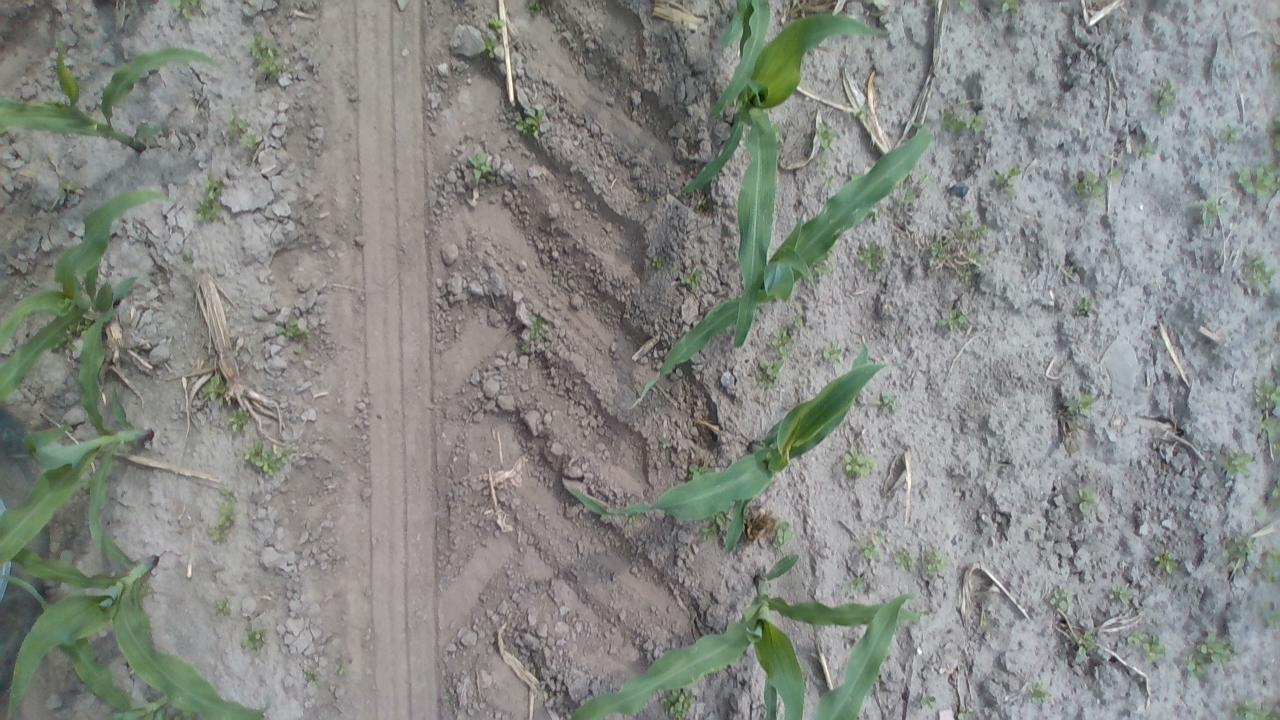Maize: (622, 105, 929, 417), (683, 2, 898, 350), (560, 346, 891, 540), (574, 548, 914, 720), (0, 535, 266, 714), (4, 304, 150, 592), (0, 192, 174, 422), (0, 34, 220, 155), (806, 600, 918, 716), (713, 0, 765, 70)
Weeds: (1187, 630, 1236, 680), (248, 32, 292, 86), (241, 440, 288, 476), (209, 490, 239, 544), (1238, 162, 1276, 202), (1242, 250, 1274, 294), (941, 105, 986, 136), (224, 110, 258, 150), (507, 104, 546, 137), (1128, 630, 1166, 662), (660, 684, 695, 718), (814, 121, 841, 165), (479, 14, 507, 56), (1152, 78, 1180, 119), (198, 177, 223, 222), (1220, 448, 1255, 479), (1224, 535, 1255, 570), (841, 448, 876, 479), (276, 318, 312, 346), (1228, 699, 1277, 719), (1195, 194, 1225, 226), (1076, 172, 1106, 202), (1252, 377, 1276, 414), (468, 150, 497, 180), (956, 209, 986, 238), (240, 624, 269, 654), (768, 324, 796, 355), (990, 163, 1021, 191), (757, 358, 786, 387), (922, 546, 948, 578), (858, 243, 886, 272), (1066, 391, 1096, 418), (1152, 546, 1180, 574), (1258, 410, 1276, 452), (526, 308, 546, 344), (700, 514, 726, 540), (876, 391, 902, 417), (204, 375, 228, 403), (1076, 629, 1100, 657), (169, 0, 206, 18), (227, 407, 251, 434), (1259, 546, 1276, 584), (1049, 584, 1071, 613), (816, 160, 838, 189), (958, 260, 982, 286), (1075, 483, 1096, 512), (863, 536, 885, 562), (771, 520, 793, 546), (894, 544, 914, 572), (681, 264, 704, 288), (941, 309, 968, 329), (896, 182, 920, 204), (211, 596, 234, 616), (1030, 683, 1050, 705), (824, 344, 846, 364), (1110, 582, 1132, 602), (929, 239, 950, 259), (996, 0, 1022, 16), (844, 575, 864, 595), (1257, 340, 1277, 360), (1261, 605, 1277, 630), (1221, 123, 1239, 145), (1138, 138, 1154, 161), (687, 463, 707, 481), (914, 173, 932, 193), (302, 664, 320, 684), (954, 0, 976, 15), (1074, 297, 1090, 317), (920, 692, 940, 708), (60, 178, 80, 194), (694, 193, 710, 213), (772, 120, 786, 142), (1266, 121, 1276, 151), (1264, 485, 1276, 509), (526, 0, 544, 16), (650, 254, 666, 272), (956, 706, 976, 719), (1107, 166, 1122, 182), (180, 248, 194, 264)
